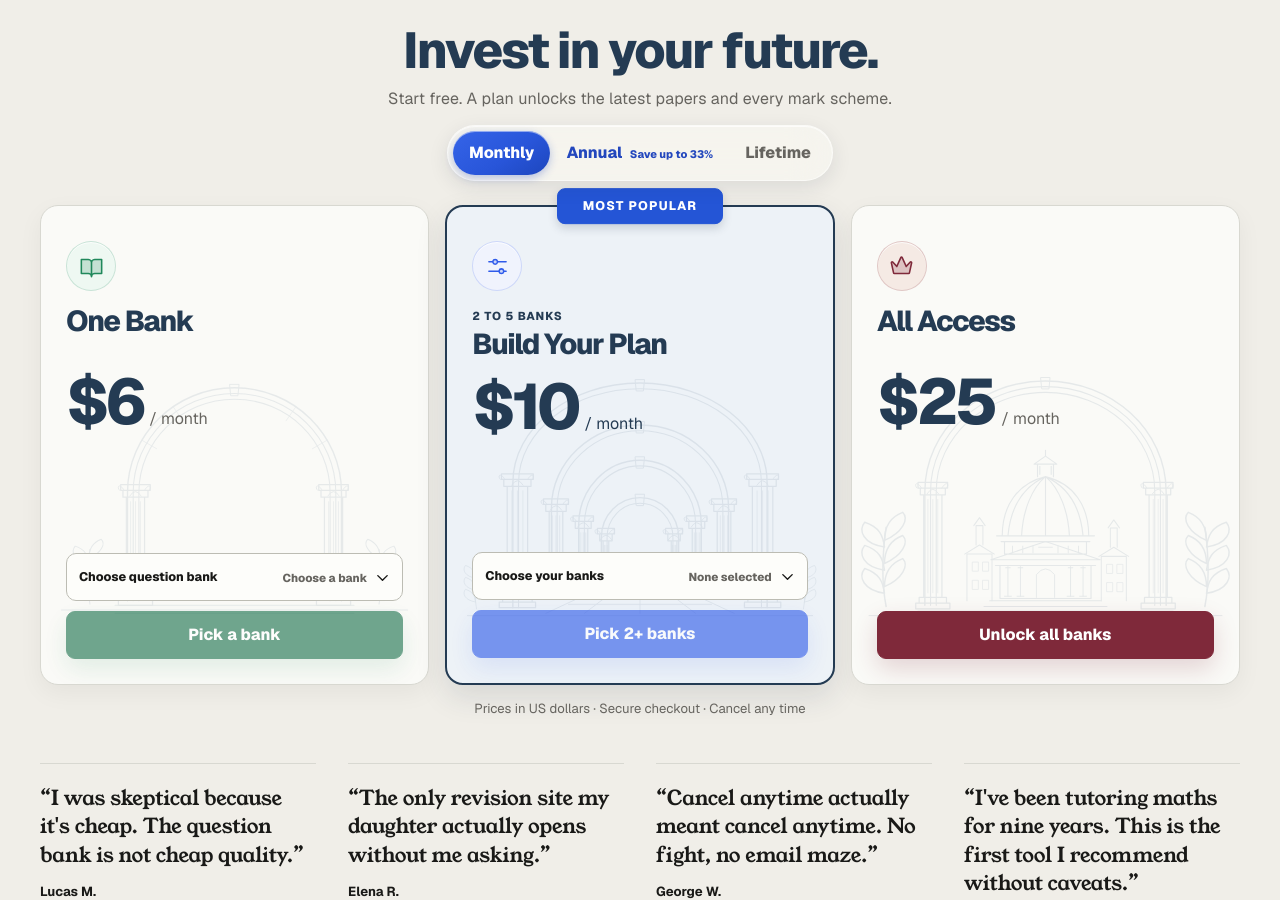
approved custom-bank pricing › switches between three recurring cards and the card-free lifetime panorama
What coordinates should you click on to do the following:
click the button "Lifetime"
I would click on:
 (778, 153)
Its box is top-left (729, 131), bottom-right (827, 175).
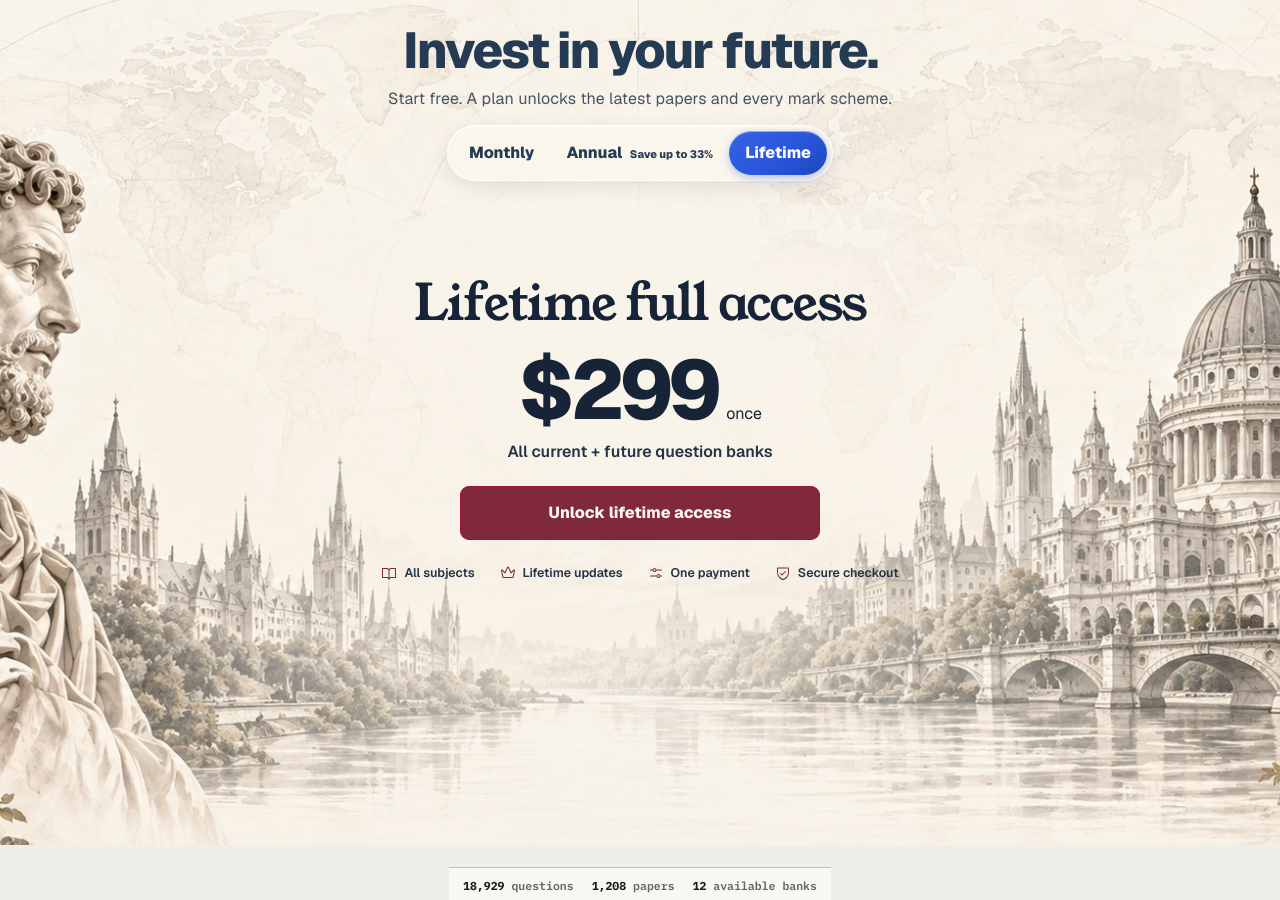
Expected: the number of elements with class "lifetime-scenic" is 1, top-left (381, 268), bottom-right (899, 581)
Expected: the heading "Lifetime full access" is shown, top-left (414, 277), bottom-right (866, 330)
Expected: the text "$299" is shown, top-left (518, 349), bottom-right (717, 430)
What coordinates should you click on to do the following:
click the button "Monthly"
I would click on:
 (502, 153)
Its box is top-left (453, 131), bottom-right (550, 175).
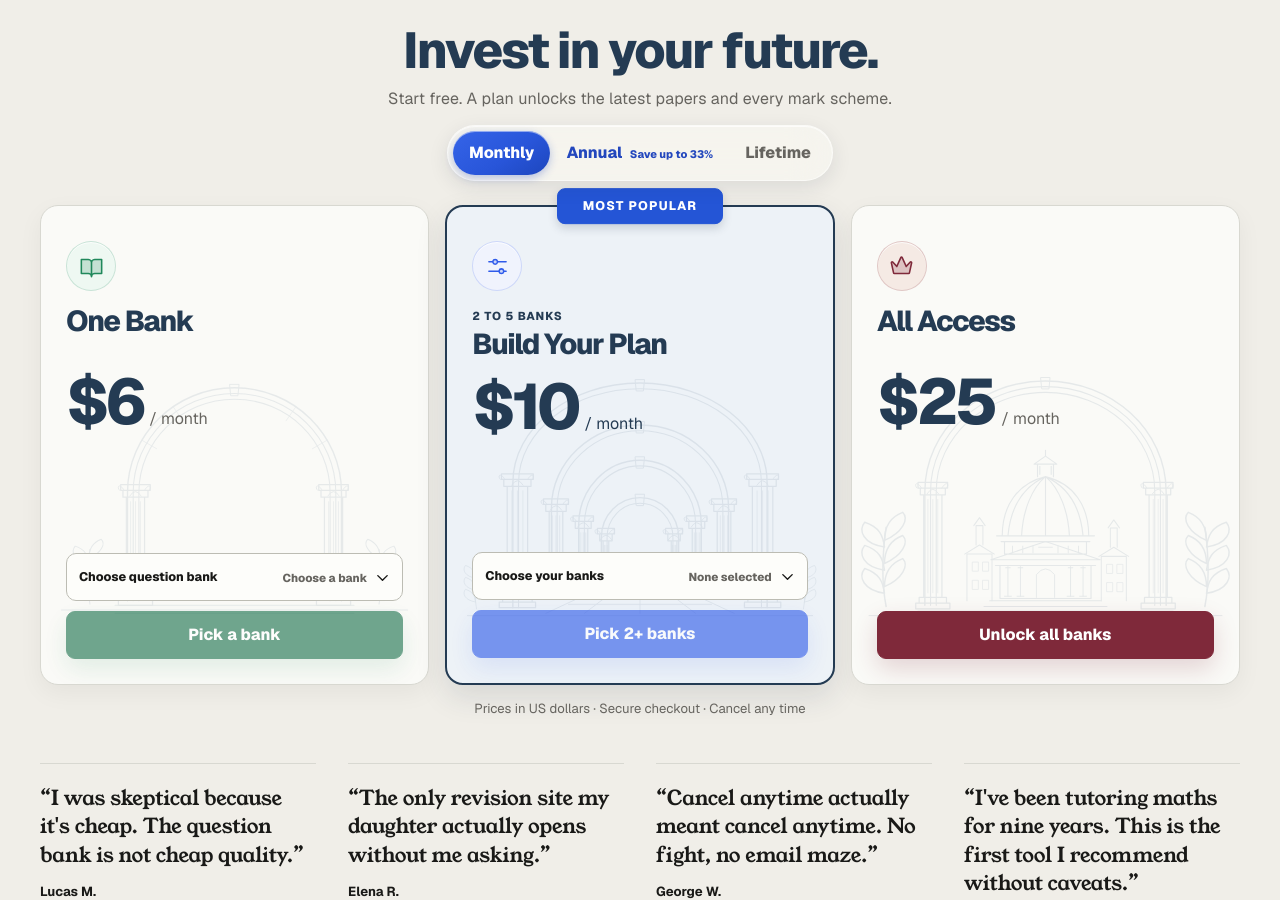
Expected: the element with class "lifetime-scenic" is gone
